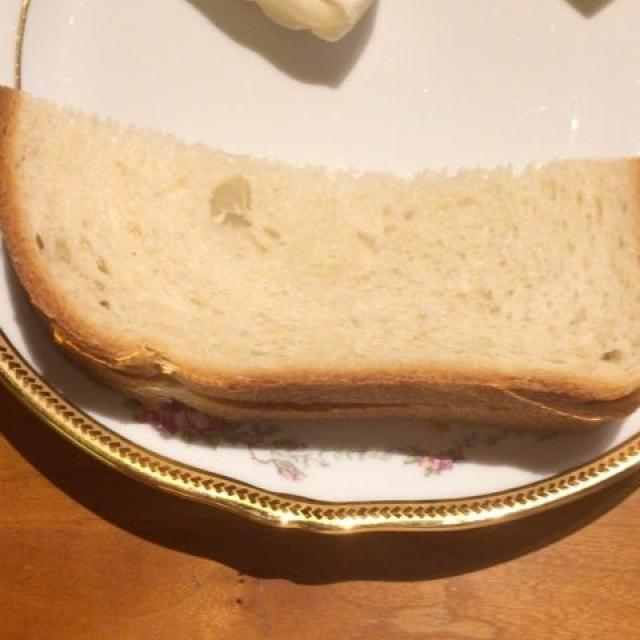bread: (13, 71, 631, 422)
